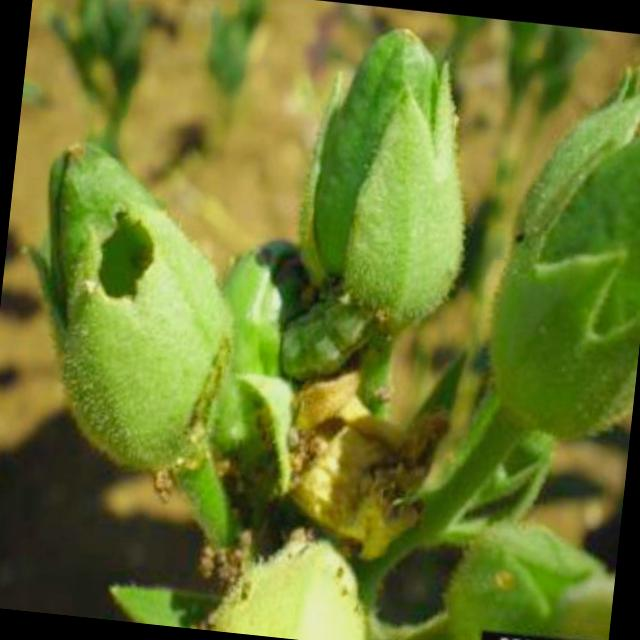Cotton bollworm: (218, 214, 404, 402)
